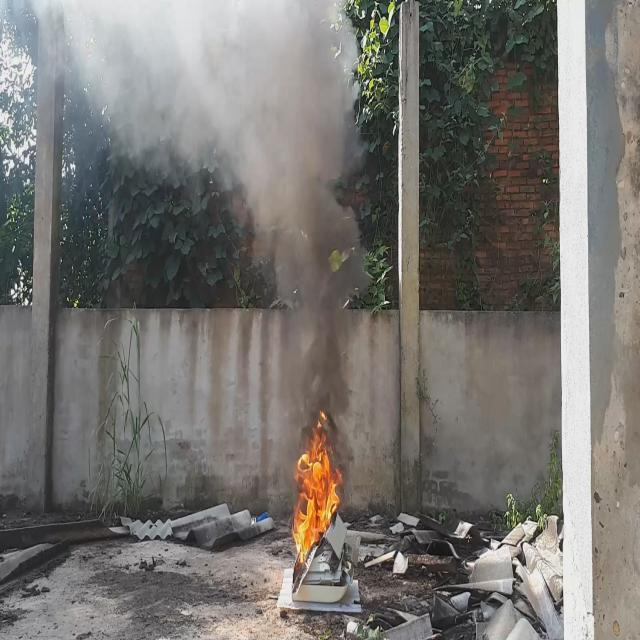Fire: (290, 408, 346, 562)
Smoke: (32, 0, 370, 463)
